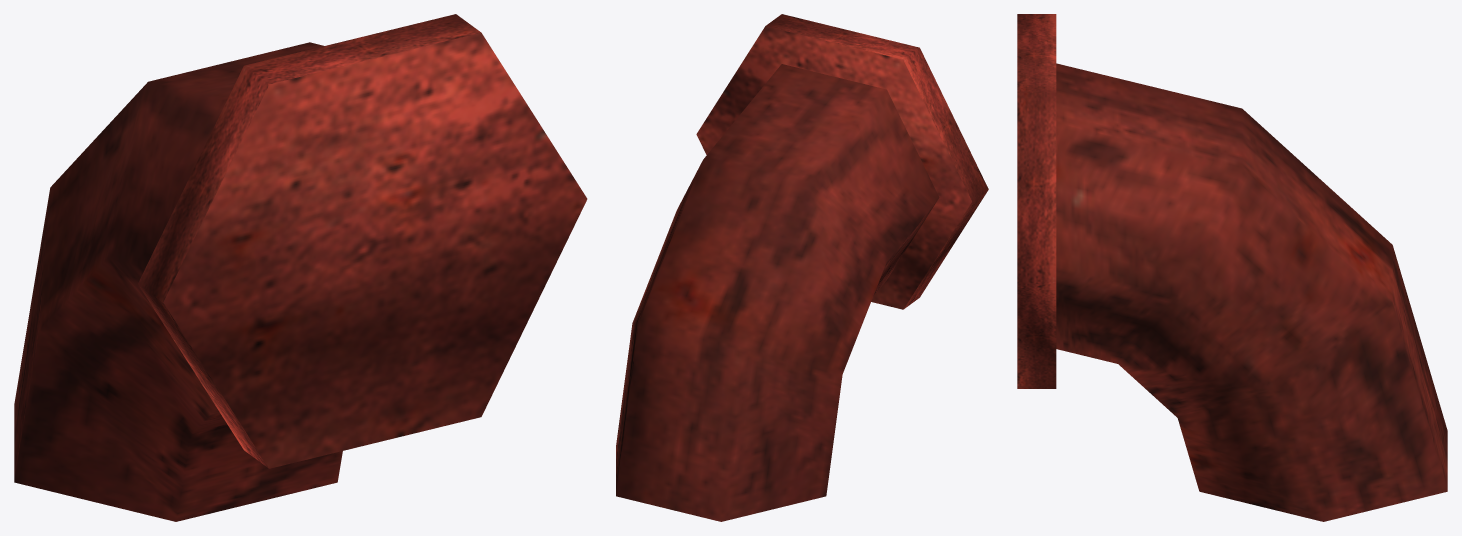
Rendered from small_red_2_elbow.fbx.
3 views of the same model, side by side, from view 1: azimuth 30°, elevation 25°; view 2: azimuth 150°, elevation 25°; view 3: azimuth 270°, elevation 25° (orthographic). The views are drawn at different scales.
Parts seen in each view (by area): view 1: polySurface647; view 2: polySurface647; view 3: polySurface647.
Part boxes in pixels (<box>): polySurface647: <box>14,14,587,521</box>; polySurface647: <box>616,14,988,521</box>; polySurface647: <box>1017,14,1447,521</box>.
Size of the model in its own units: 0.6563 by 0.7842 by 0.7506.
